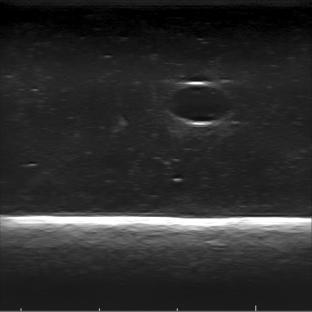vessel: (164, 80, 235, 126)
